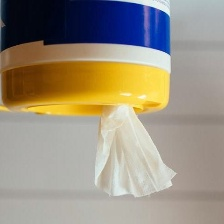plastic_box: (0, 0, 179, 121)
tissue: (90, 100, 182, 201)
